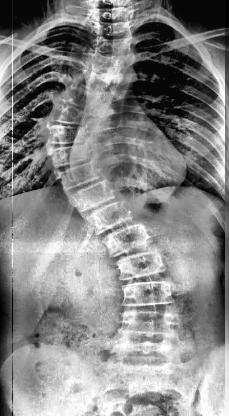Vertebrae: (115, 337, 177, 371), (118, 277, 176, 309), (81, 203, 139, 232), (102, 223, 156, 254), (67, 180, 119, 212), (116, 249, 170, 279), (119, 310, 176, 338), (46, 100, 98, 128), (45, 143, 97, 169), (78, 49, 128, 75), (54, 161, 102, 187), (55, 82, 104, 107), (44, 122, 94, 146), (70, 68, 116, 92), (90, 34, 136, 56), (90, 20, 136, 38), (89, 7, 133, 23)
